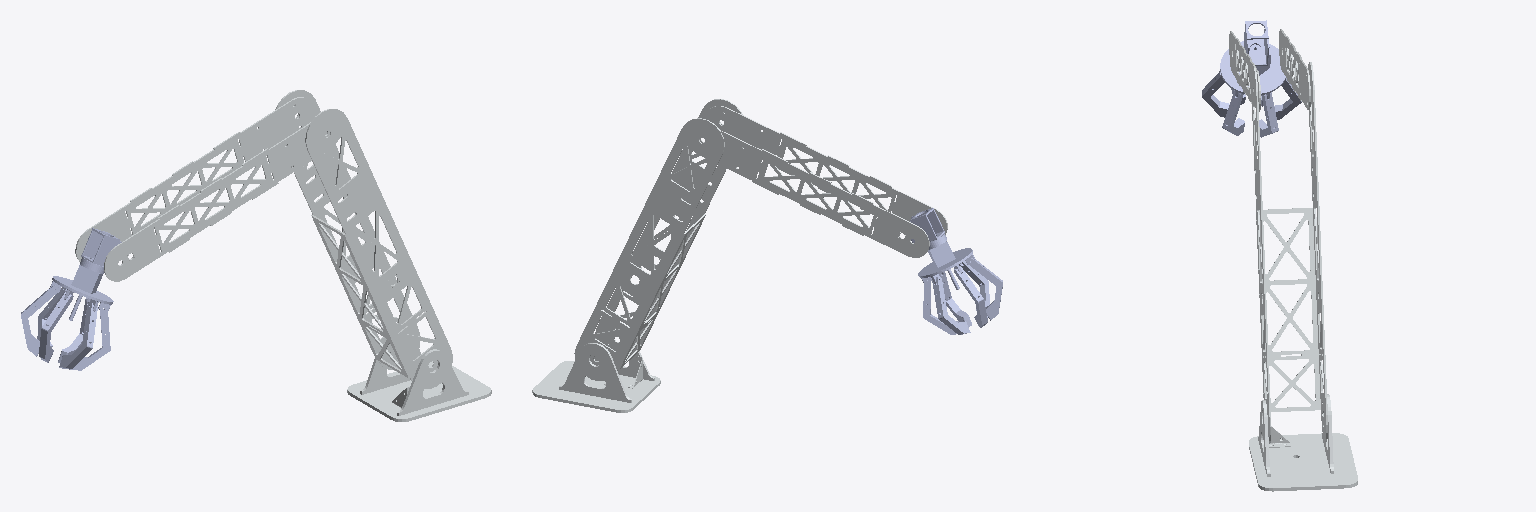
The robot description file, URDF, robot "rover_arm_controller":
<robot
  name="rover_arm_controller">
  <link
    name="base_link">
    <inertial>
      <origin
        xyz="0.167333020630679 -0.0932981497004772 0.203572921753306"
        rpy="0 0 0" />
      <mass
        value="1.09987706637098" />
      <inertia
        ixx="0.00186690627375383"
        ixy="-2.38762374457778E-05"
        ixz="0.000219426452282904"
        iyy="0.000702689787023486"
        iyz="7.25476216335866E-05"
        izz="0.00158776522165118" />
    </inertial>
    <visual>
      <origin
        xyz="0 0 0"
        rpy="0 0 0" />
      <geometry>
        <mesh
          filename="package://rover_arm_controller/meshes/base_link.STL" />
      </geometry>
      <material
        name="">
        <color
          rgba="0.898039215686275 0.917647058823529 0.929411764705882 1" />
      </material>
    </visual>
    <collision>
      <origin
        xyz="0 0 0"
        rpy="0 0 0" />
      <geometry>
        <mesh
          filename="package://rover_arm_controller/meshes/base_link.STL" />
      </geometry>
    </collision>
  </link>
  <link
    name="shoulder">
    <inertial>
      <origin
        xyz="0.0340198543920042 -0.114331741845435 0.533436578952917"
        rpy="0 0 0" />
      <mass
        value="1.05564621631797" />
      <inertia
        ixx="0.00451355211596393"
        ixy="0.000226886691793064"
        ixz="-3.47073159403849E-05"
        iyy="0.0020800955861839"
        iyz="3.7679008173862E-05"
        izz="0.00247634265148738" />
    </inertial>
    <visual>
      <origin
        xyz="0 0 0"
        rpy="0 0 0" />
      <geometry>
        <mesh
          filename="package://rover_arm_controller/meshes/shoulder.STL" />
      </geometry>
      <material
        name="">
        <color
          rgba="0.898039215686275 0.917647058823529 0.929411764705882 1" />
      </material>
    </visual>
    <collision>
      <origin
        xyz="0 0 0"
        rpy="0 0 0" />
      <geometry>
        <mesh
          filename="package://rover_arm_controller/meshes/shoulder.STL" />
      </geometry>
    </collision>
  </link>
  <joint
    name="shoulder_joint"
    type="revolute">
    <origin
      xyz="0 0 0"
      rpy="0 0 0" />
    <parent
      link="base_link" />
    <child
      link="shoulder" />
    <axis
      xyz="0.1001 -0.99498 0" />
    <limit
      effort="0"
      velocity="0" />
  </joint>
  <link
    name="elbow">
    <inertial>
      <origin
        xyz="-0.318026991497227 -0.149944416333569 0.753194447303895"
        rpy="0 0 0" />
      <mass
        value="0.636895031335" />
      <inertia
        ixx="0.00133892364548078"
        ixy="0.000134705336582021"
        ixz="-8.24805055360625E-21"
        iyy="1.35523244846123E-05"
        iyz="8.19827201769394E-20"
        izz="0.0013524759699654" />
    </inertial>
    <visual>
      <origin
        xyz="0 0 0"
        rpy="0 0 0" />
      <geometry>
        <mesh
          filename="package://rover_arm_controller/meshes/elbow.STL" />
      </geometry>
      <material
        name="">
        <color
          rgba="0.898039215686275 0.917647058823529 0.929411764705882 1" />
      </material>
    </visual>
    <collision>
      <origin
        xyz="0 0 0"
        rpy="0 0 0" />
      <geometry>
        <mesh
          filename="package://rover_arm_controller/meshes/elbow.STL" />
      </geometry>
    </collision>
  </link>
  <joint
    name="elbow_joint"
    type="revolute">
    <origin
      xyz="0 0 0"
      rpy="0 0 0" />
    <parent
      link="shoulder" />
    <child
      link="elbow" />
    <axis
      xyz="0.1001 -0.99498 0" />
    <limit
      effort="0"
      velocity="0" />
  </joint>
  <link
    name="gripper">
    <inertial>
      <origin
        xyz="-0.642617923160962 -0.182601225281858 0.568071271782977"
        rpy="0 0 0" />
      <mass
        value="0.740121875975325" />
      <inertia
        ixx="0.00291316772436591"
        ixy="-3.02410399614774E-05"
        ixz="-0.000529038656375505"
        iyy="0.00321106063121921"
        iyz="-5.31678259233735E-05"
        izz="0.00227909091893231" />
    </inertial>
    <visual>
      <origin
        xyz="0 0 0"
        rpy="0 0 0" />
      <geometry>
        <mesh
          filename="package://rover_arm_controller/meshes/gripper.STL" />
      </geometry>
      <material
        name="">
        <color
          rgba="0.792156862745098 0.819607843137255 0.933333333333333 1" />
      </material>
    </visual>
    <collision>
      <origin
        xyz="0 0 0"
        rpy="0 0 0" />
      <geometry>
        <mesh
          filename="package://rover_arm_controller/meshes/gripper.STL" />
      </geometry>
    </collision>
  </link>
  <joint
    name="gripper_joint"
    type="revolute">
    <origin
      xyz="0 0 0"
      rpy="0 0 0" />
    <parent
      link="elbow" />
    <child
      link="gripper" />
    <axis
      xyz="0.1001 -0.99498 0" />
    <limit
      effort="0"
      velocity="0" />
  </joint>
</robot>

--- Facts derived from the render (not from the file) ---
Views: 3 orthographic renders of the robot side by side, from view 1: azimuth 30°, elevation 25°; view 2: azimuth 150°, elevation 25°; view 3: azimuth 270°, elevation 25°.
Robot: rover_arm_controller — 4 links, 3 joints (3 revolute); root link base_link; default pose: all joints at 0.
Visible links, largest first — view 1: shoulder, elbow, gripper, base_link; view 2: shoulder, elbow, gripper, base_link; view 3: shoulder, base_link, gripper, elbow.
Boxes of the visible links, bbox=[...] form: shoulder: bbox=[275, 90, 452, 388]; elbow: bbox=[75, 97, 338, 281]; gripper: bbox=[21, 228, 121, 370]; base_link: bbox=[347, 349, 491, 421]; shoulder: bbox=[574, 99, 742, 380]; elbow: bbox=[690, 106, 947, 257]; gripper: bbox=[910, 208, 1002, 334]; base_link: bbox=[532, 328, 660, 412]; shoulder: bbox=[1251, 62, 1327, 443]; base_link: bbox=[1249, 394, 1357, 491]; gripper: bbox=[1202, 20, 1301, 137]; elbow: bbox=[1229, 29, 1310, 111].
Bounding box of the posed robot: 1.03 × 0.2885 × 0.6886 m (x, y, z).
Meshes: 4 distinct files referenced, 4 mesh visuals loaded (4 binary STL).